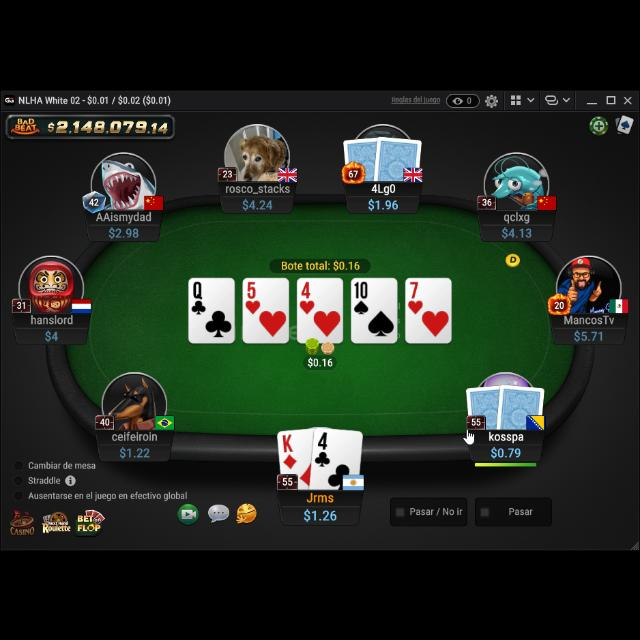4c: (314, 428, 332, 467)
4h: (298, 276, 316, 312)
5h: (244, 278, 262, 312)
6h: (244, 277, 262, 313)
7h: (408, 276, 424, 314)
Kd: (282, 430, 298, 468)
Qc: (190, 278, 208, 314)
Ts: (352, 277, 370, 313)
bet_text: (308, 353, 334, 367)
card_back: (496, 378, 546, 428), (373, 132, 423, 180), (342, 133, 384, 181), (465, 380, 505, 426)
dealer: (503, 248, 521, 266)
pot_text: (280, 256, 362, 270)
stack_text: (304, 504, 338, 520), (366, 195, 399, 209), (242, 194, 274, 208), (572, 325, 604, 339), (119, 442, 151, 456), (108, 223, 140, 237), (491, 443, 522, 457), (502, 223, 532, 237), (44, 326, 60, 338)
